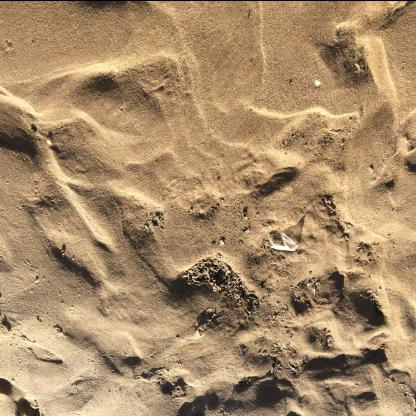plastik: (268, 230, 298, 250)
